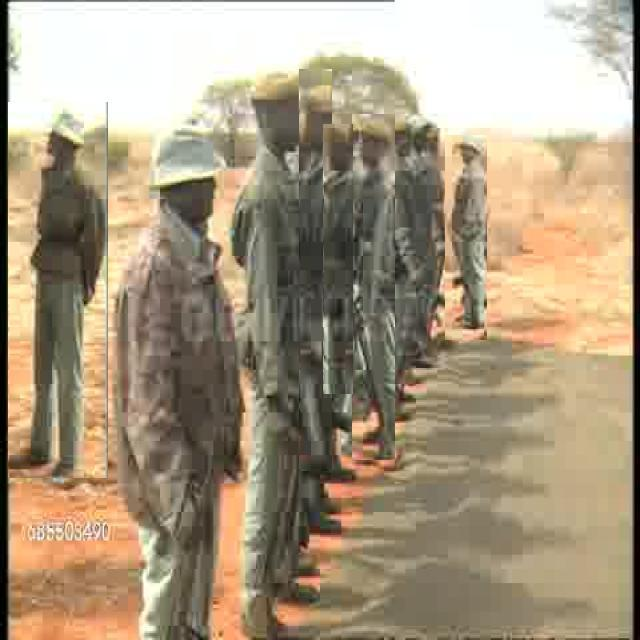poacher: (106, 110, 232, 603), (8, 101, 108, 478), (236, 67, 303, 614), (352, 114, 395, 460), (299, 69, 332, 471), (445, 135, 487, 340), (323, 124, 353, 394)
